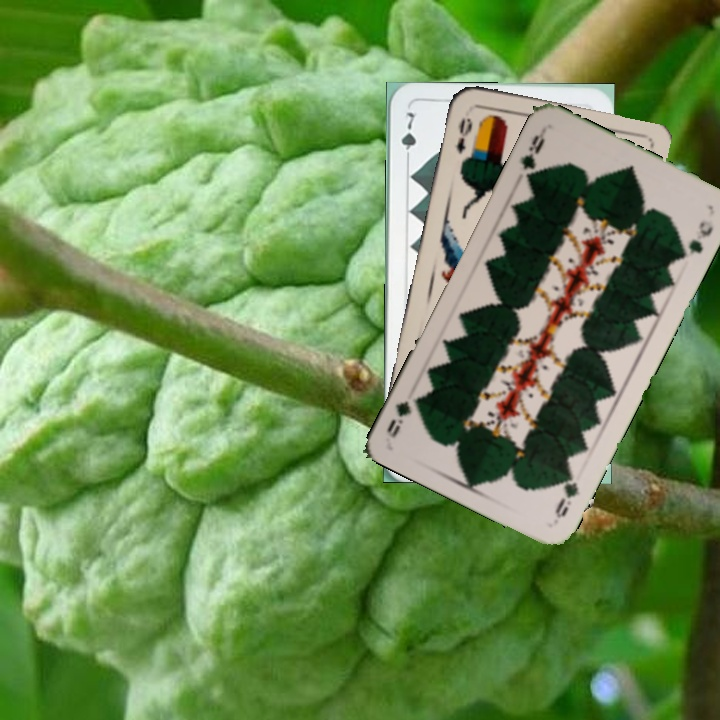EO: (452, 113, 476, 156)
G7: (397, 108, 419, 166)
G9: (516, 126, 549, 185), (551, 466, 583, 521)
